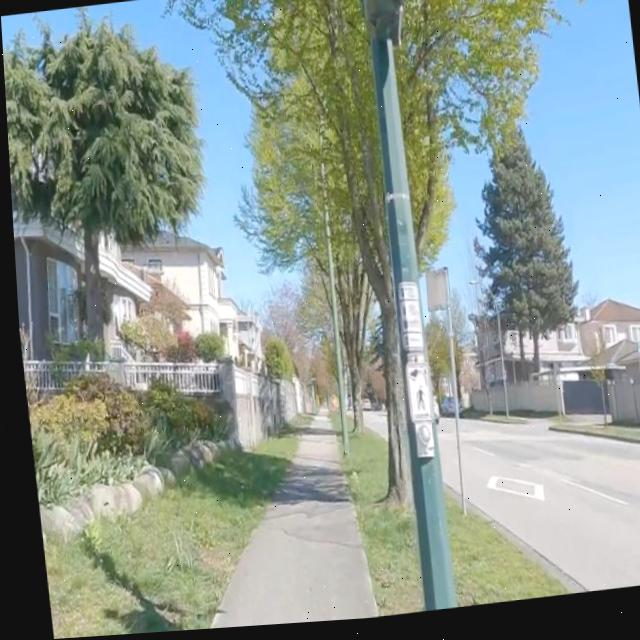Automobile: (428, 403, 433, 428), (357, 404, 365, 414)
Obstacle: (362, 0, 448, 617), (86, 436, 291, 632), (441, 499, 562, 613), (37, 544, 168, 639), (320, 173, 367, 436), (346, 439, 411, 621), (317, 168, 344, 461), (374, 300, 398, 507)
Road: (455, 425, 640, 601), (434, 425, 453, 510), (359, 416, 380, 445)
Sidewalk: (199, 419, 370, 631)
